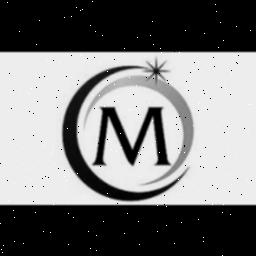m: (89, 104, 173, 170)
